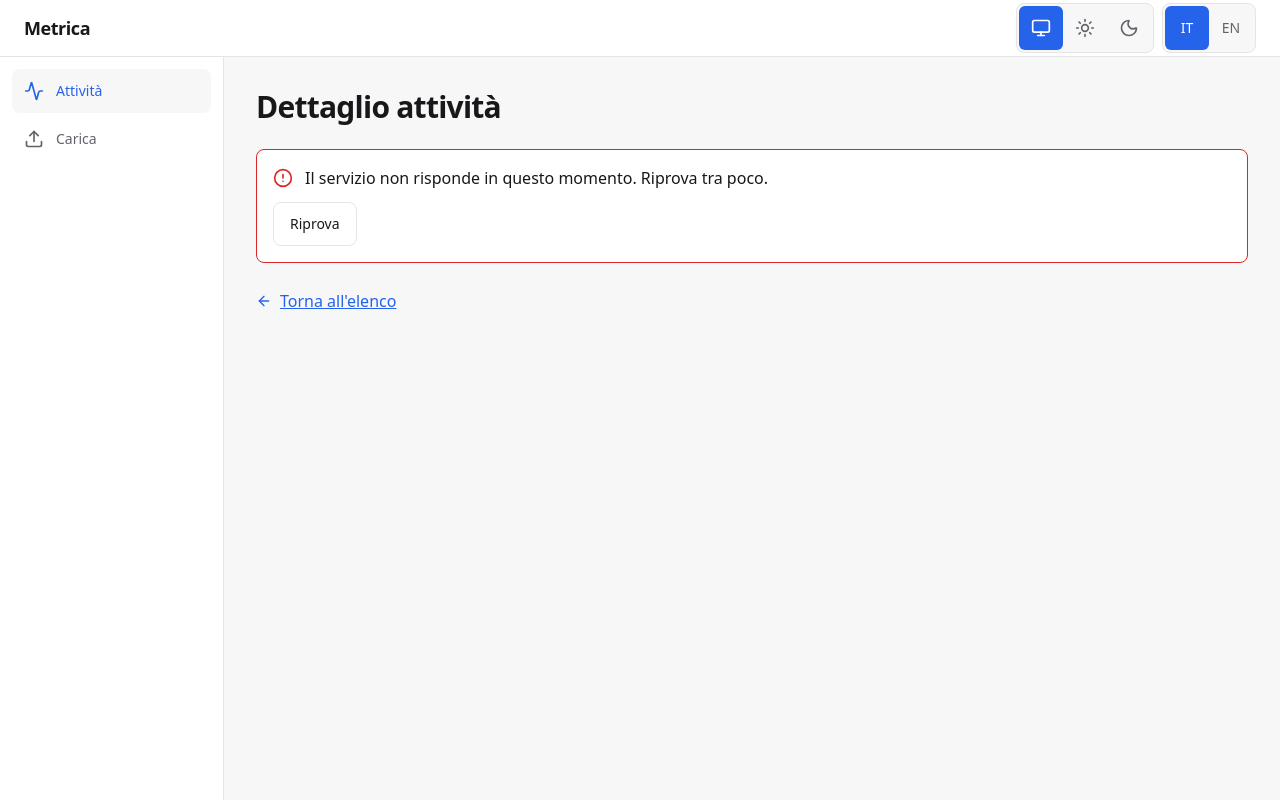
Test case: dettaglio: assente, non valido, errori › «Riprova» ripete la richiesta e mostra il dettaglio
Click the button "Riprova" at x=315, y=224, box [273,202,357,246]
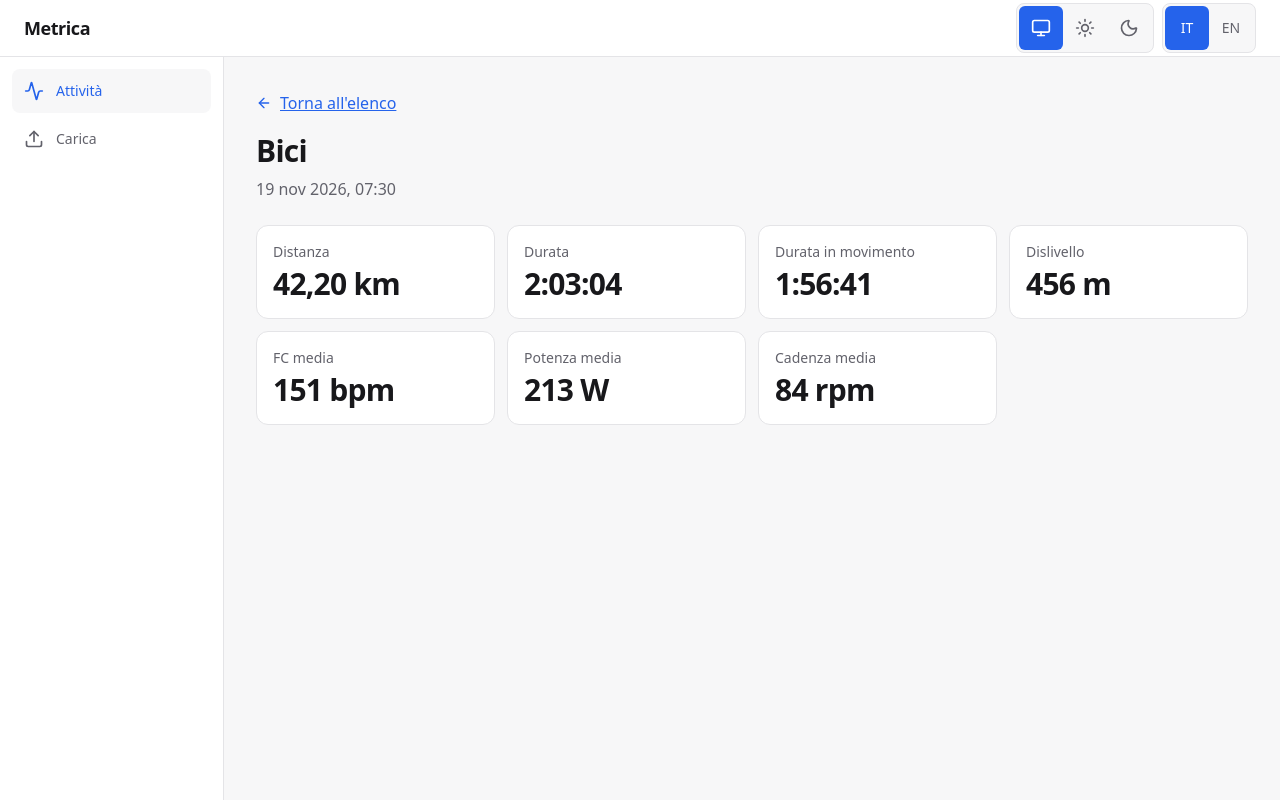
Now the heading "Bici" is shown, box [256,130,307,171]
Now the message "Il servizio non risponde in questo momento. Riprova tra poco. Riprova" is gone
